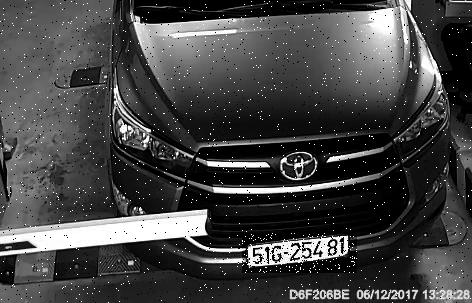License-plate: (244, 234, 360, 274)
